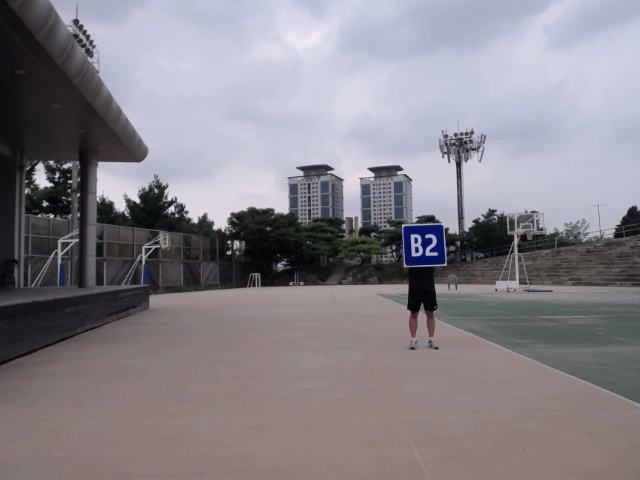delivery_b2: (401, 222, 448, 268)
